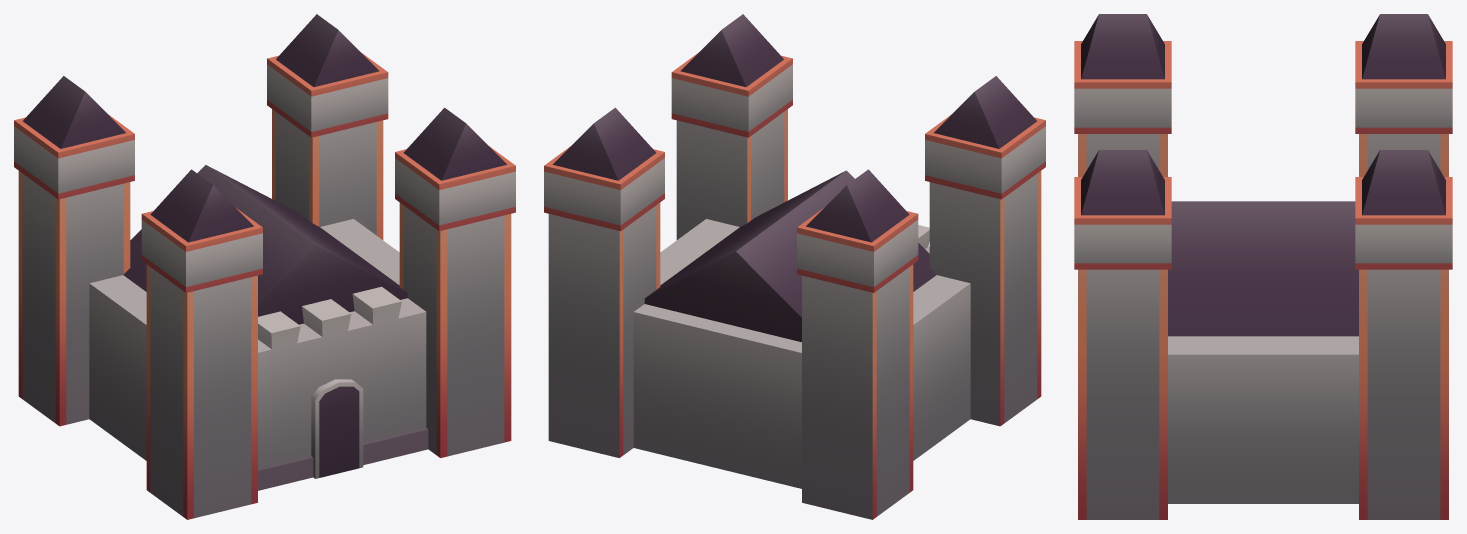
The model's file is Mdl_Castle.fbx.
3 renders of one model, left to right at view 1: azimuth 30°, elevation 25°; view 2: azimuth 150°, elevation 25°; view 3: azimuth 270°, elevation 25°, orthographic. The views are drawn at different scales.
Parts seen in each view (by area): view 1: Castle; view 2: Castle; view 3: Castle.
Boxes of the visible parts, x1,y1,x2,y2 form: Castle: (14, 14, 515, 519); Castle: (544, 14, 1045, 519); Castle: (1074, 14, 1452, 519).
Bounding box in the file's own units: 957 × 885 × 864.
